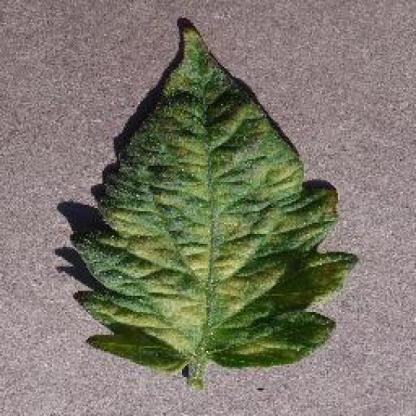Tomato_Leaf_Mold: (71, 20, 360, 364)
